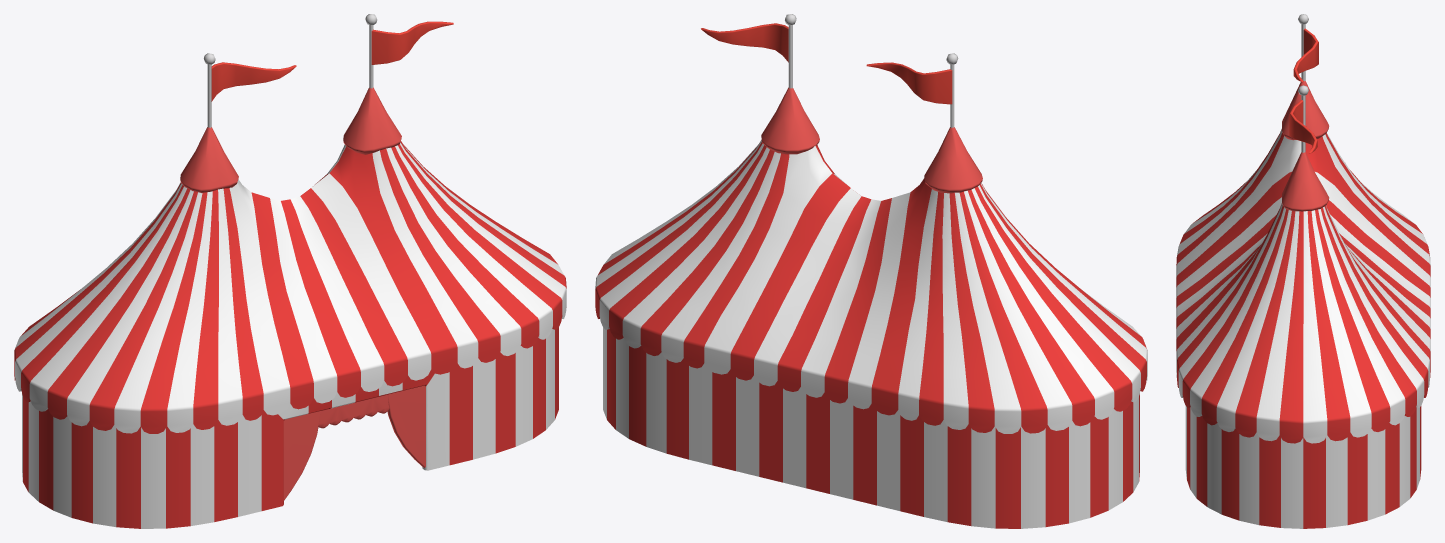
Rendered from tent_001.gltf.
The picture shows the model from 3 angles, left to right: view 1: azimuth 30°, elevation 25°; view 2: azimuth 150°, elevation 25°; view 3: azimuth 270°, elevation 25°; orthographic projection. The views are drawn at different scales.
Parts seen in each view (by area): view 1: tent_001; view 2: tent_001; view 3: tent_001.
Part boxes in pixels (bbox=[...]): tent_001: bbox=[14, 14, 566, 528]; tent_001: bbox=[595, 14, 1147, 528]; tent_001: bbox=[1176, 14, 1430, 528].
Size of the model in its own units: 18.01 by 13.43 by 8.42.
1 material, 1 textured.
